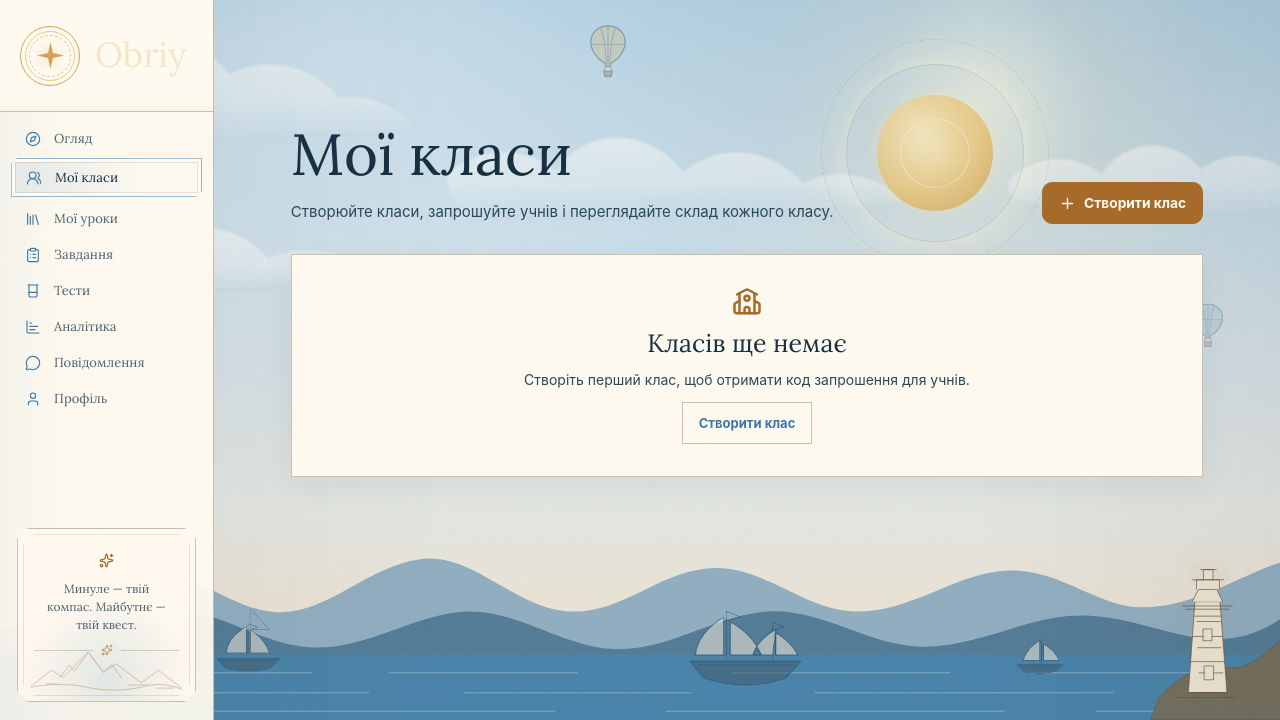
it: AppRouter auth boundaries › lets a teacher create a class and reveals the invitation code once
Check: the heading "Класів ще немає" is shown, box [647,327,847,359]
Click the 1st button "Створити клас".
click(1123, 203)  # box [1042,182,1203,224]
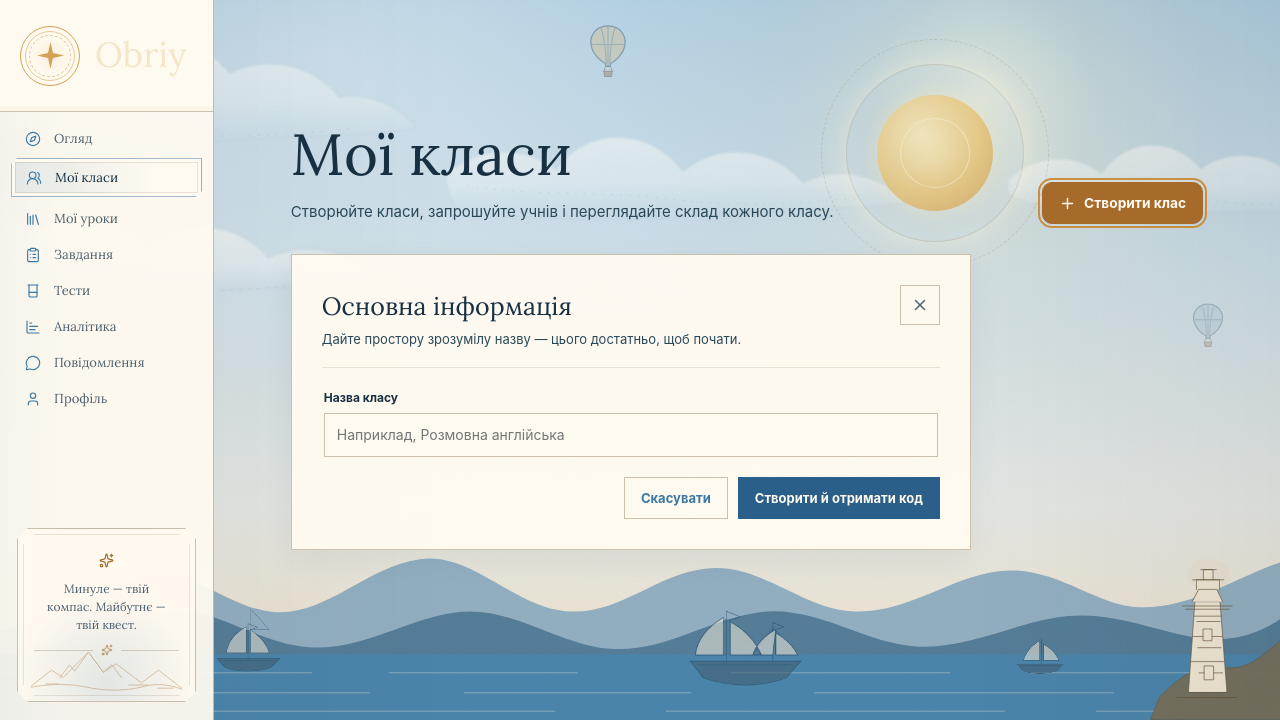
Type "8-А" into the field labelled "Назва класу".
click(631, 434); type("8-А")  # box [324,412,938,456]
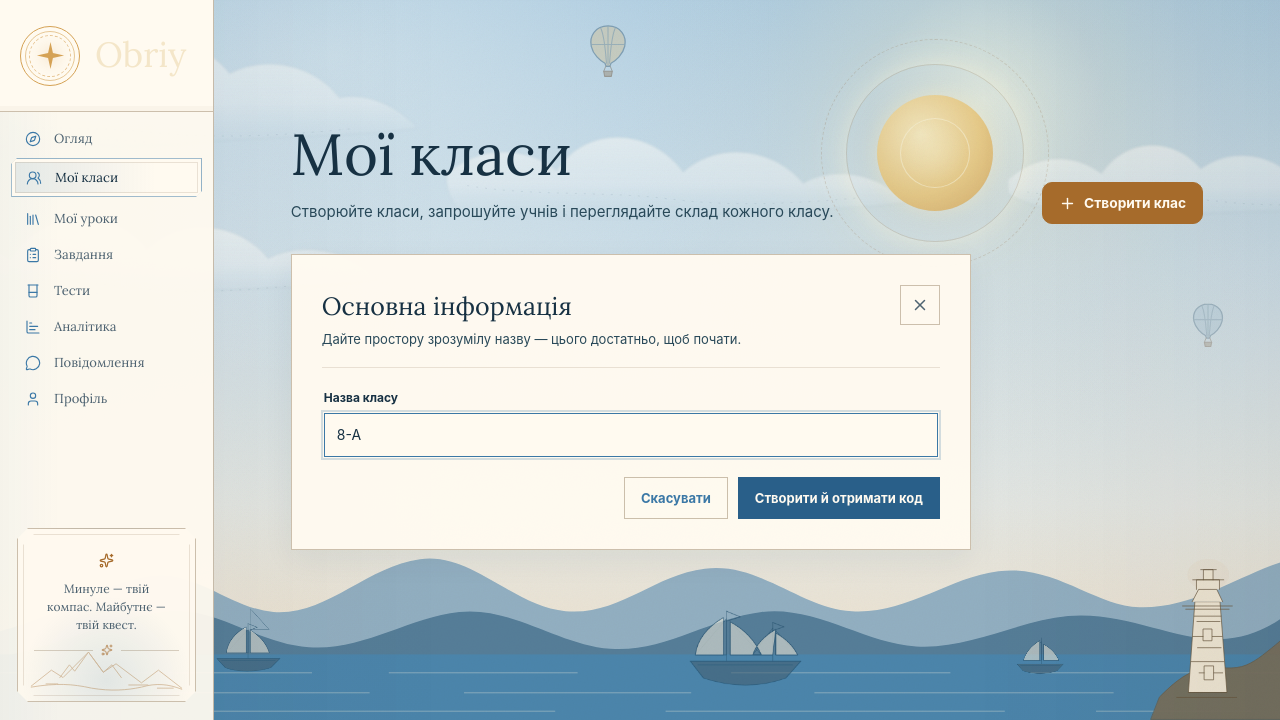
Click the button "Створити й отримати код".
click(839, 498)  # box [738,476,940,518]
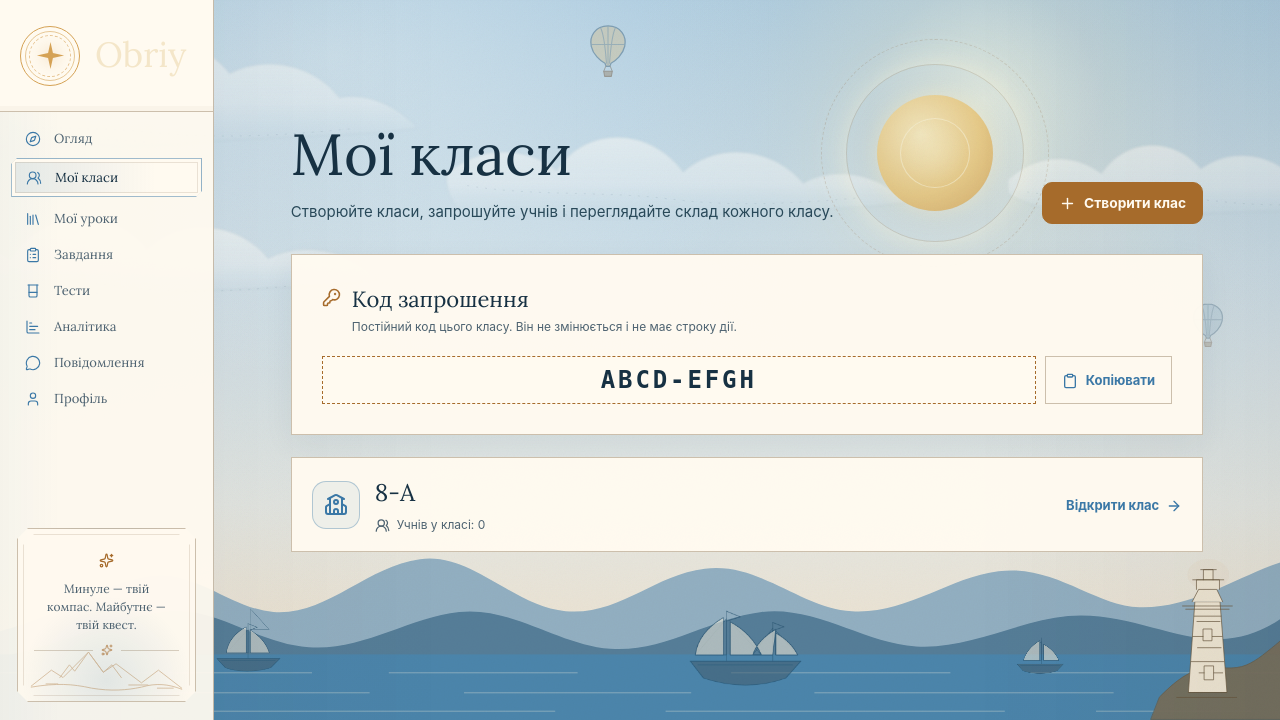
Check: the text "ABCD-EFGH" is shown, box [322,356,1036,404]
